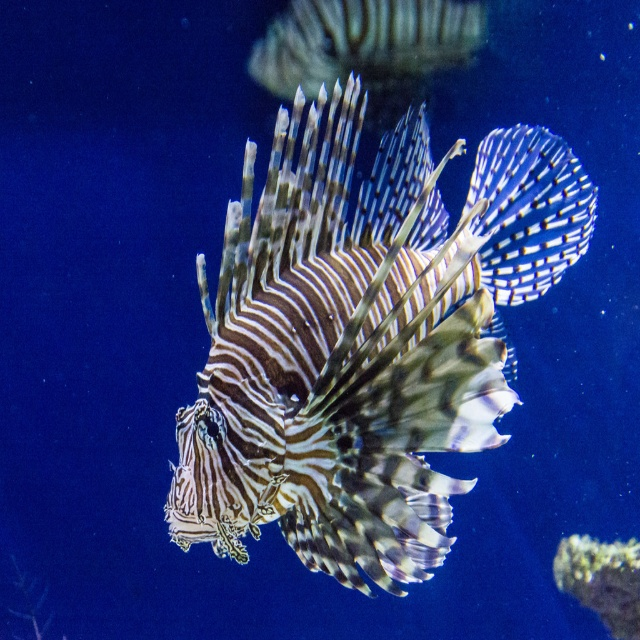Fish: (163, 71, 599, 598)
